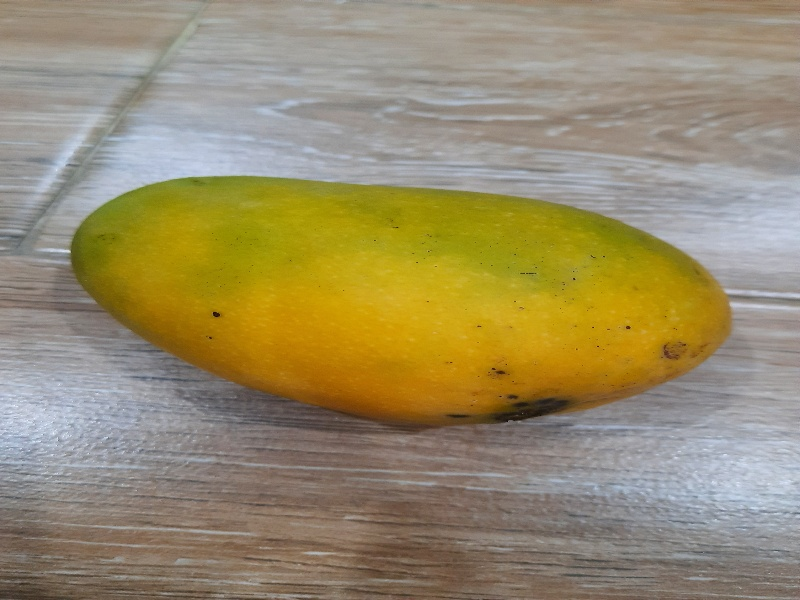fruit: (60, 162, 734, 431)
